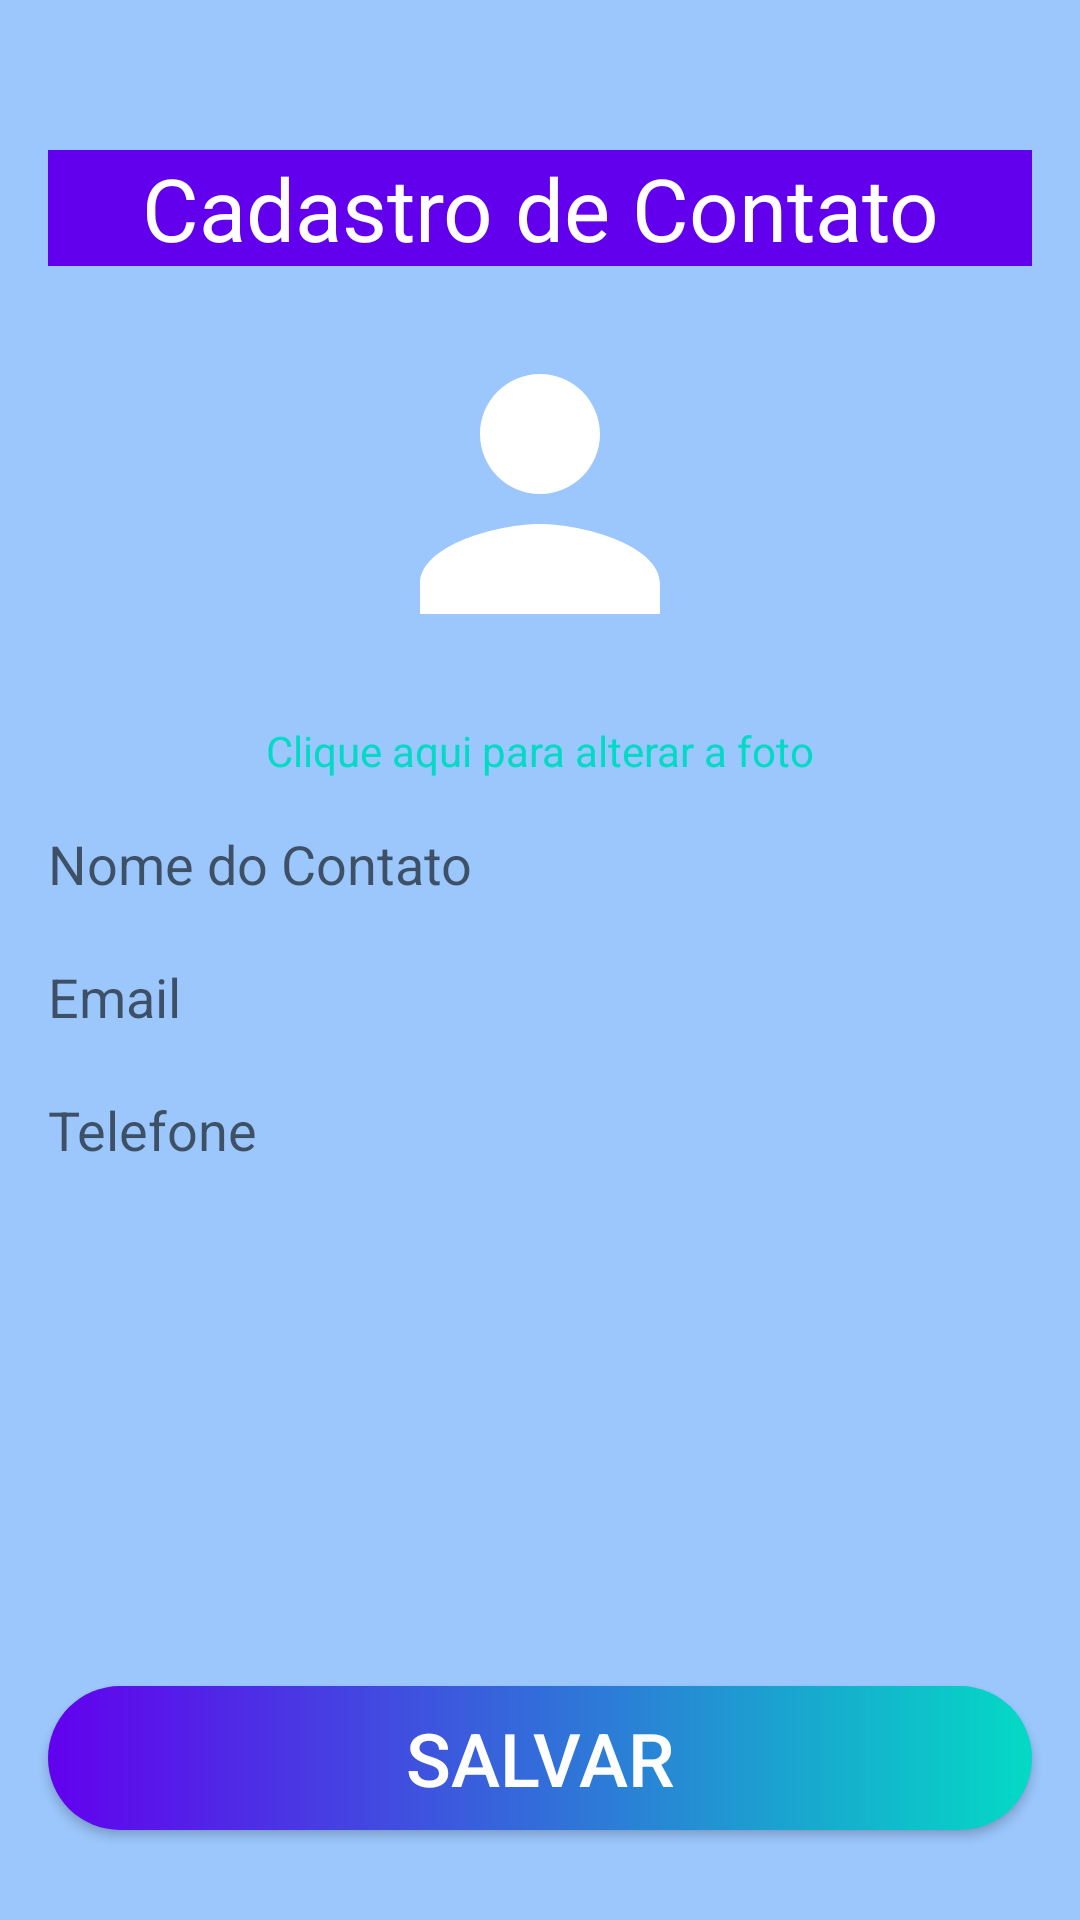

Named icons in this screenshot (1080w x 1920h) and their bounding boxes, [x1,y1,x2,y2]:
perfil: [420,374,660,614]
